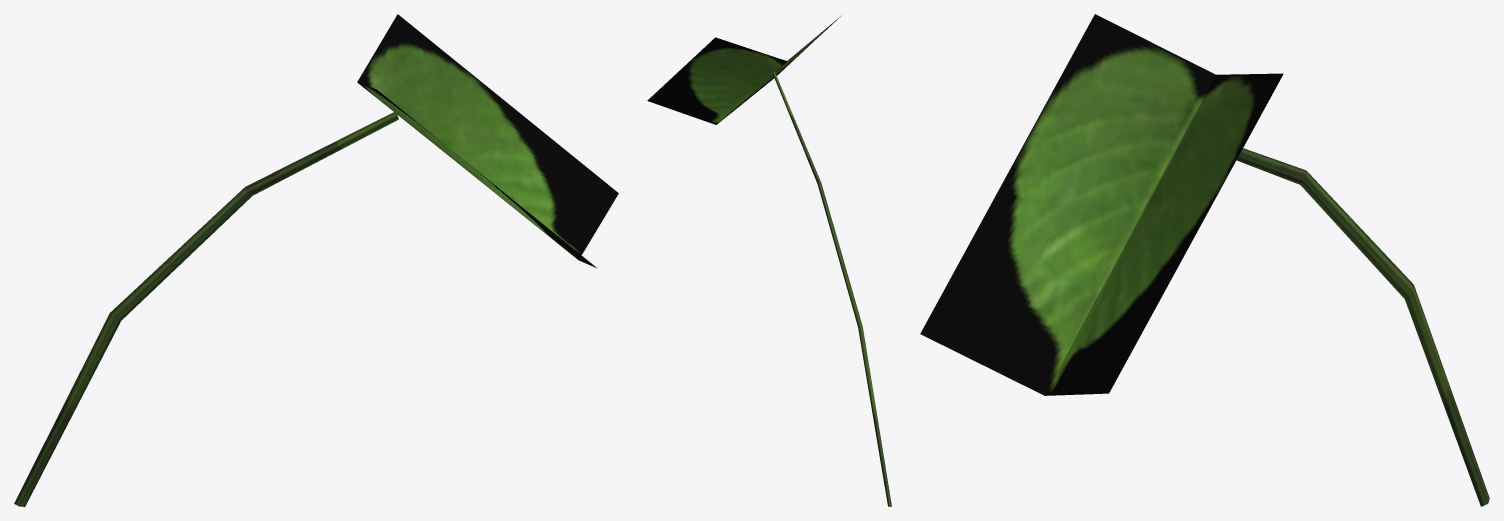
The model's file is dub_flower_vase_dp5_lod0.glb.
The picture shows the model from 3 angles, left to right: view 1: azimuth 30°, elevation 25°; view 2: azimuth 150°, elevation 25°; view 3: azimuth 270°, elevation 25°; orthographic projection. The views are drawn at different scales.
Parts seen in each view (by area): view 1: surf0; view 2: surf0; view 3: surf0.
Boxes of the visible parts, box(x1,y1,x2,y2) form: surf0: box(14, 14, 618, 506); surf0: box(647, 15, 891, 506); surf0: box(920, 14, 1489, 506).
Size of the model in its own units: 11.12 by 10.98 by 9.08.
